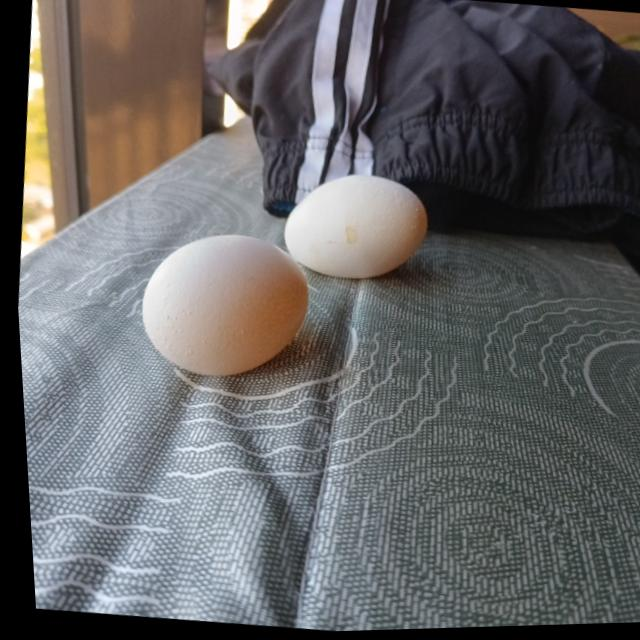egg: (127, 226, 313, 388), (277, 169, 434, 286)
